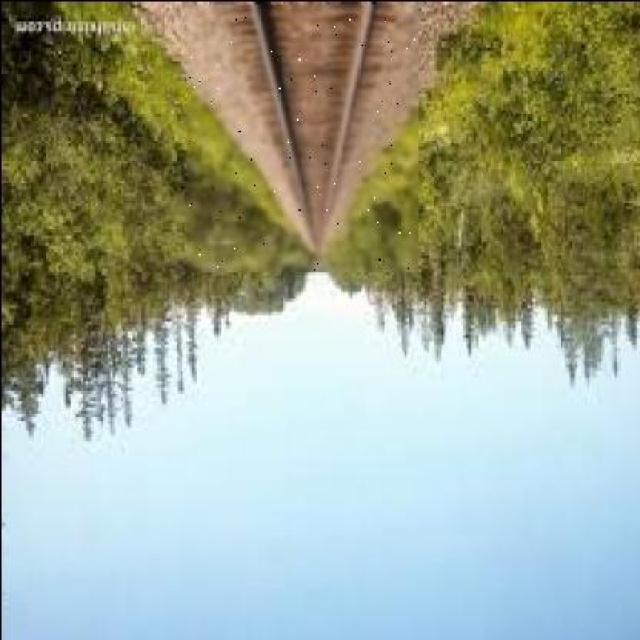rail: (187, 4, 416, 272)
